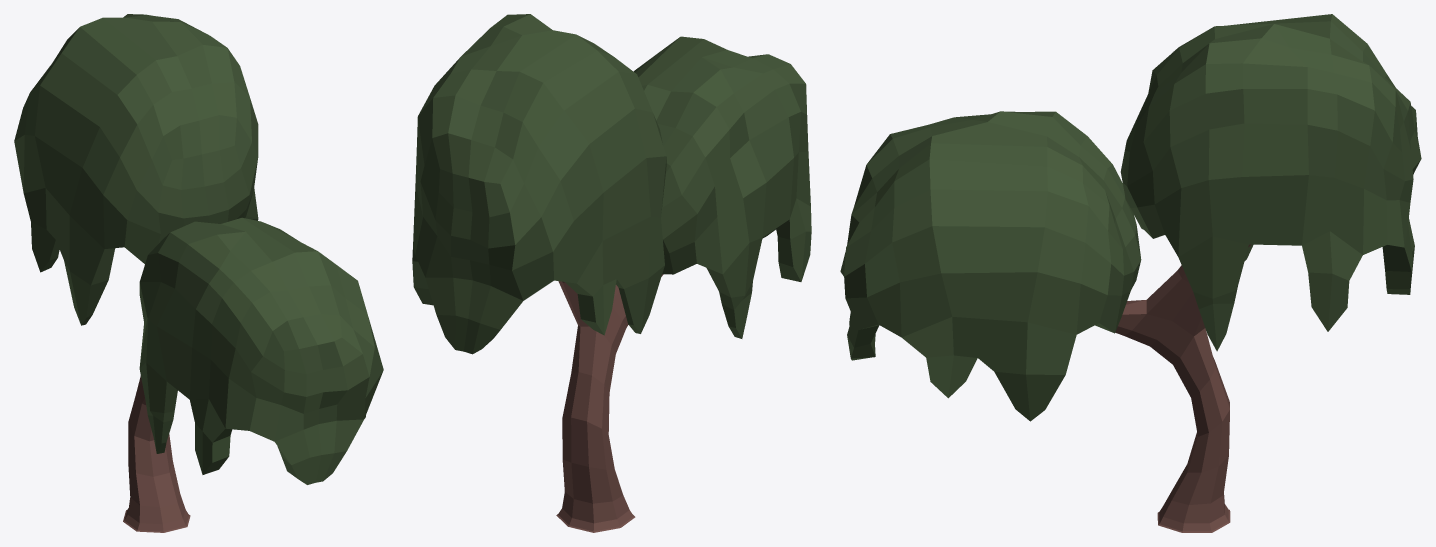
File: Willow 5.glb
The picture shows the model from 3 angles, left to right: view 1: azimuth 30°, elevation 25°; view 2: azimuth 150°, elevation 25°; view 3: azimuth 270°, elevation 25°; orthographic projection. The views are drawn at different scales.
Parts seen in each view (by area): view 1: Willow_5; view 2: Willow_5; view 3: Willow_5.
Part boxes in pixels (bbox=[...]): Willow_5: bbox=[14, 14, 383, 532]; Willow_5: bbox=[412, 14, 811, 532]; Willow_5: bbox=[840, 14, 1421, 532].
Size of the model in its own units: 1.01 by 2.42 by 2.49.
